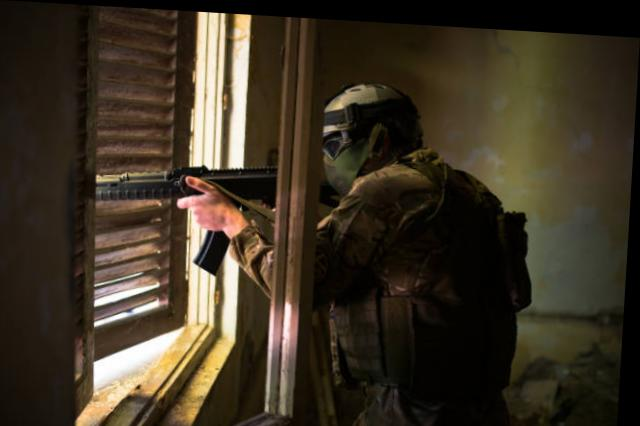other: (290, 81, 525, 424)
